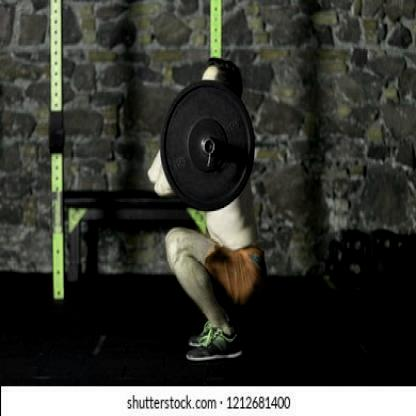Barbell: (203, 138, 217, 157)
